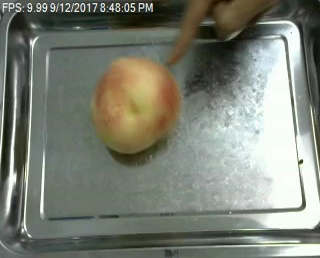Peach: (91, 55, 180, 155)
